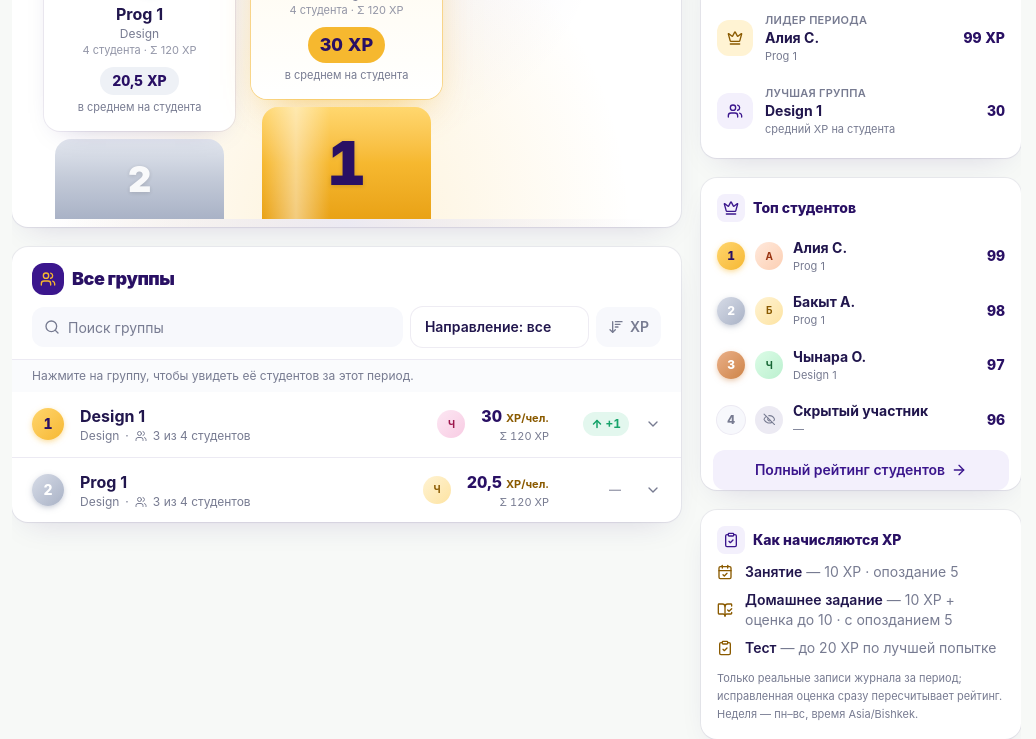
Test: Топ групп › ranks groups by average XP and opens a group’s students
(page scrolled)
Expected: the text "Prog 1" below "Все группы" is shown, [80,472,127,492]
Expected: the text "20,5" is shown, [467,470,502,494]
Click the button "Design 1" at (48, 424), box [12,392,681,456]
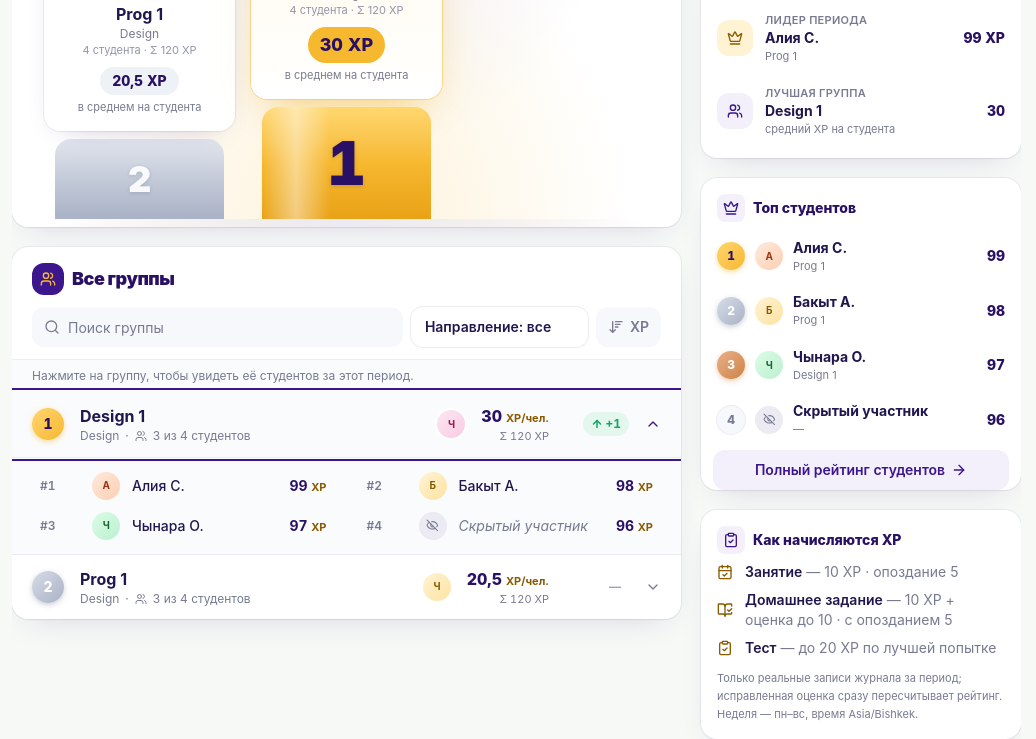
Expected: the button "Design 1" is expanded, [12,392,681,456]
